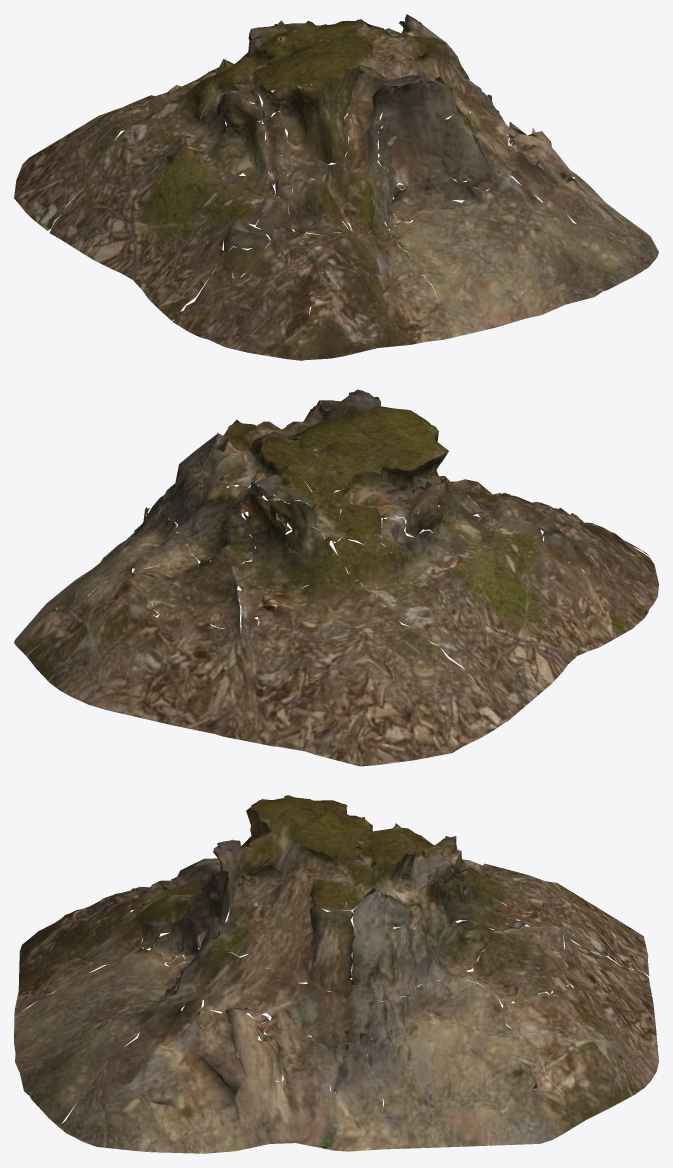
Rendered from ph_tree_stump_01.glb.
3 renders of one model, top to bottom at view 1: azimuth 30°, elevation 25°; view 2: azimuth 150°, elevation 25°; view 3: azimuth 270°, elevation 25°, orthographic. The views are drawn at different scales.
Visible parts, largest first — view 1: tree_stump_01; view 2: tree_stump_01; view 3: tree_stump_01.
Boxes of the visible parts, x1,y1,x2,y2 form: tree_stump_01: (14,14,658,360); tree_stump_01: (14,389,658,766); tree_stump_01: (14,795,658,1153).
Bounding box in the file's own units: 1.42 × 0.5738 × 1.59.
Materials: 1 (1 with a texture image).
